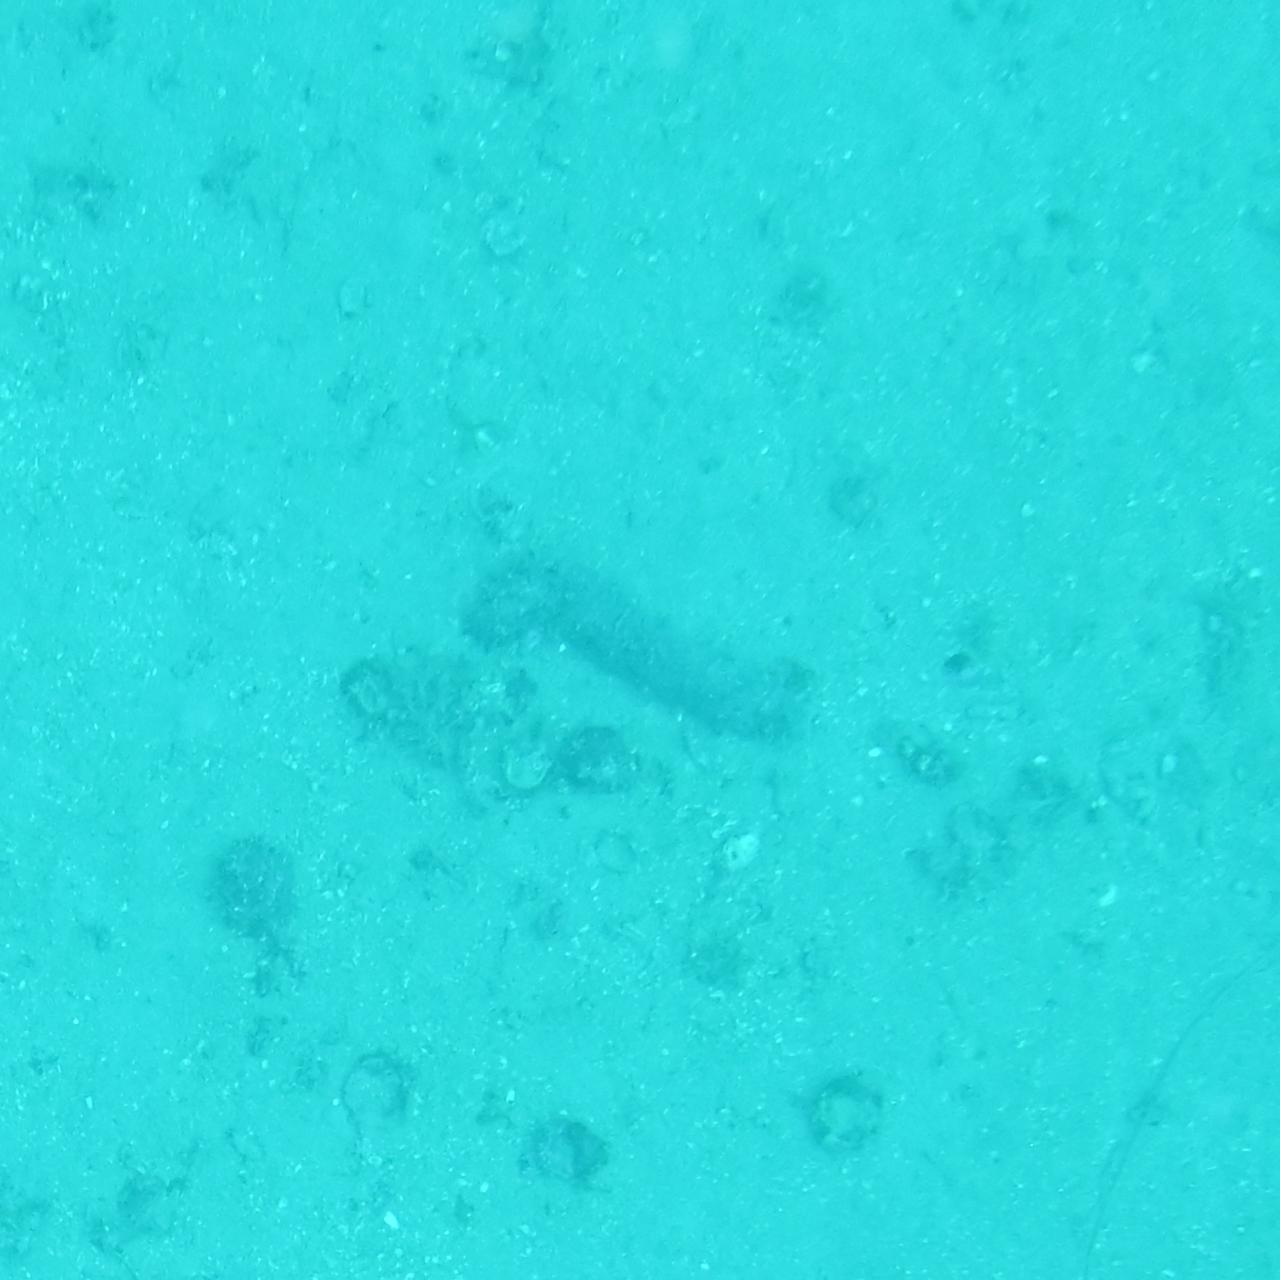Holothuria tubulosa: (456, 540, 824, 740)
